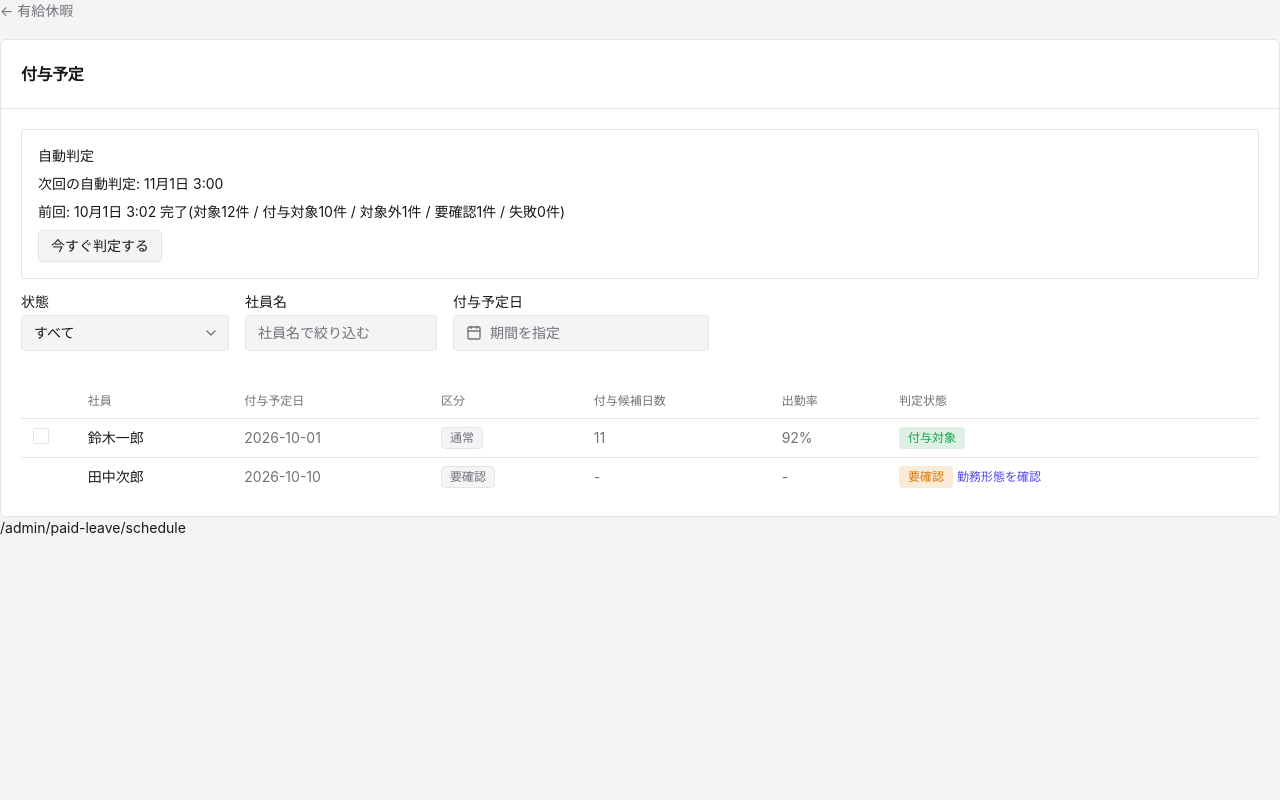
PaidLeaveSchedulePage › shows the bulk grant bar only when eligible rows are selected, and submits the selected ids after confirmation
Check: the text "鈴木一郎" is shown, box [76,419,232,458]
Check: the text "1件を選択中" is not shown
Click the checkbox named "鈴木一郎を選択".
click(41, 436)  # box [33,428,49,444]
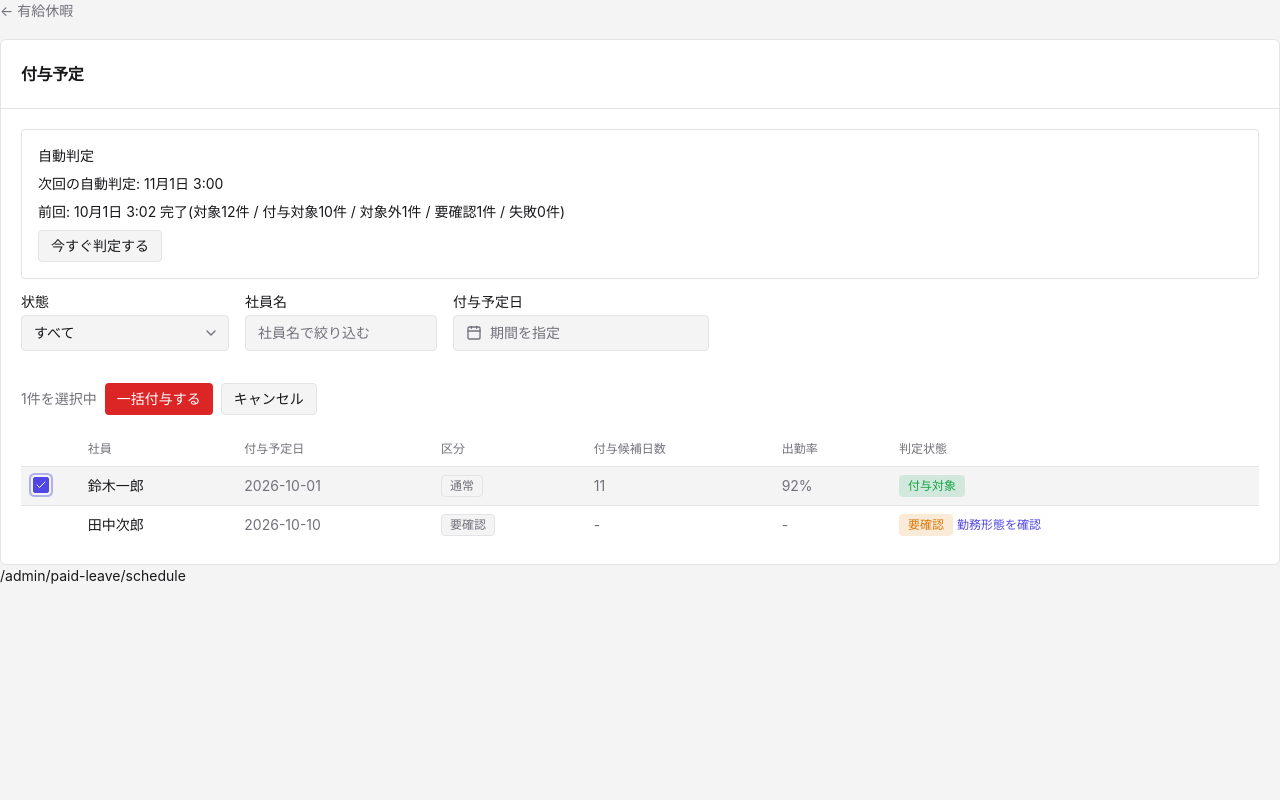
Check: the text "1件を選択中" is shown, box [21,389,97,409]
Click the button "一括付与する".
click(159, 399)  # box [105,383,213,415]
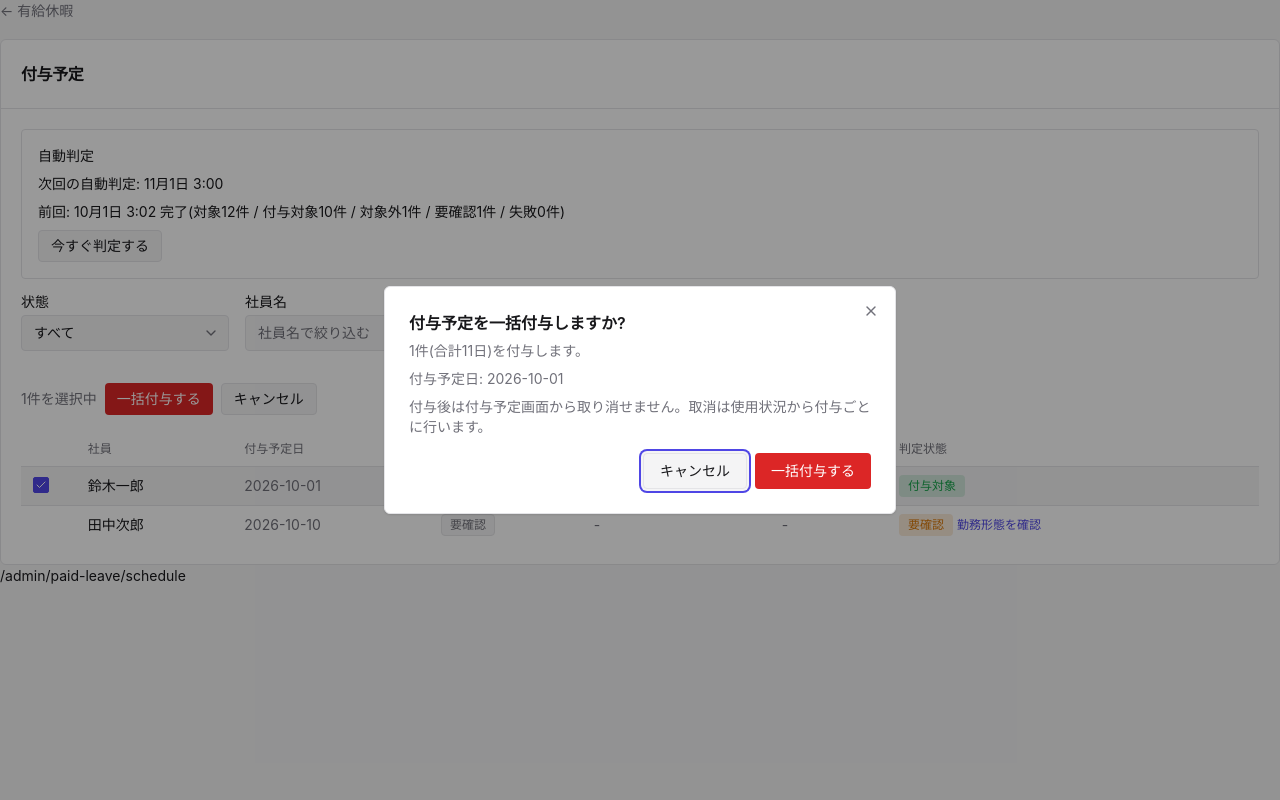
Check: the heading "付与予定を一括付与しますか?" is shown, box [409,313,626,333]
Check: the text "1件(合計11日)を付与します。" is shown, box [409,342,589,359]
Check: the text "付与予定日: 2026-10-01" is shown, box [409,370,564,387]
Click the button "一括付与する".
click(813, 471)  # box [755,453,871,489]
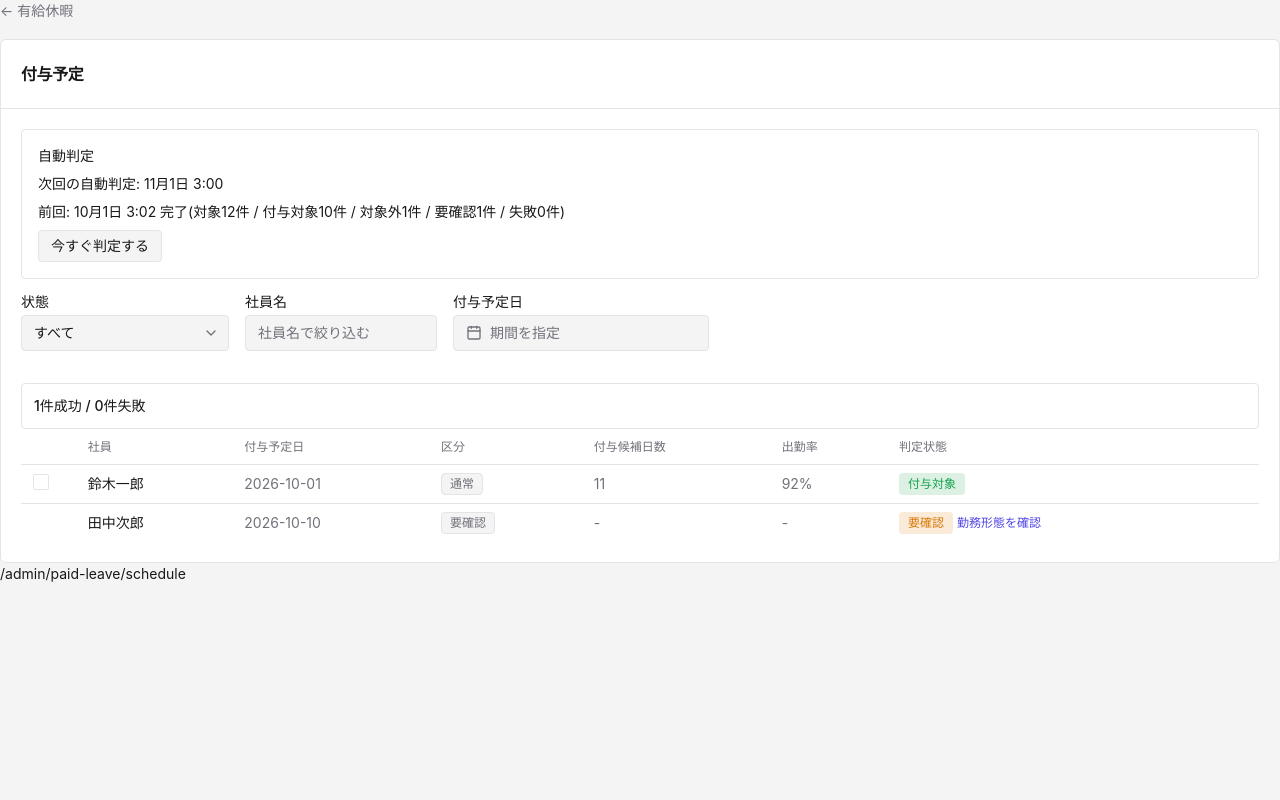
Check: the text "1件成功 / 0件失敗" is shown, box [34,397,146,414]
